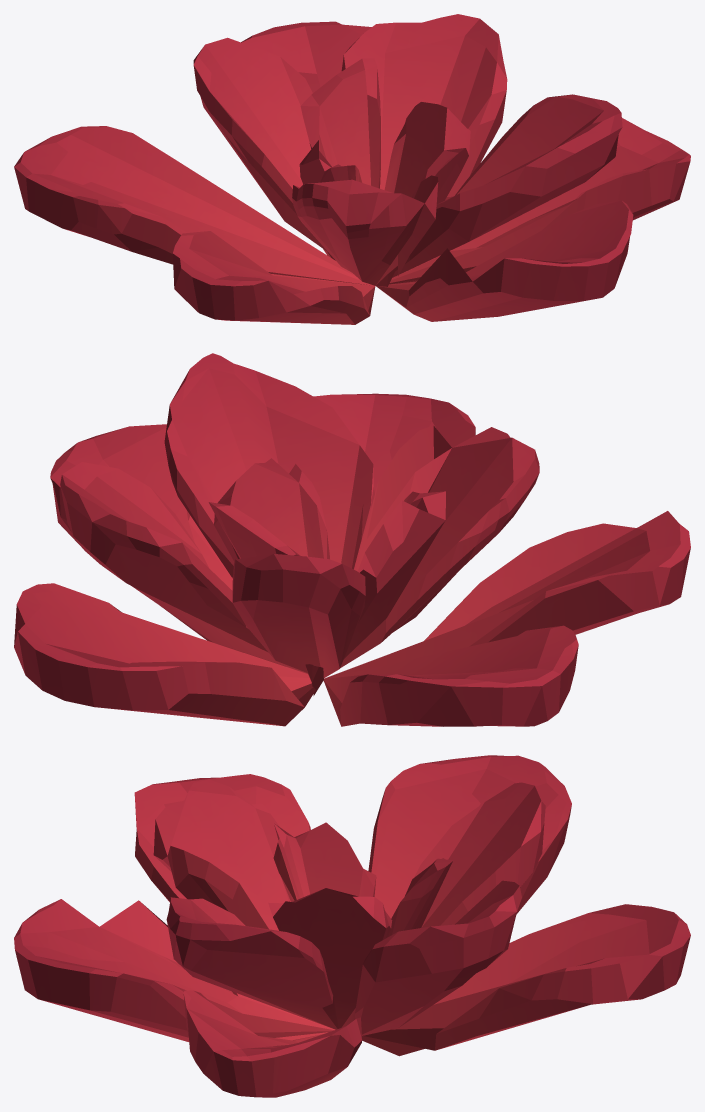
File: flor2.glb
The picture shows the model from 3 angles, top to bottom: view 1: azimuth 30°, elevation 25°; view 2: azimuth 150°, elevation 25°; view 3: azimuth 270°, elevation 25°; orthographic projection. The views are drawn at different scales.
Visible parts, largest first — view 1: Succulent.002; view 2: Succulent.002; view 3: Succulent.002.
Part boxes in pixels (x1=…): Succulent.002: x1=14, y1=14, x2=690, y2=324; Succulent.002: x1=14, y1=353, x2=690, y2=726; Succulent.002: x1=14, y1=755, x2=690, y2=1097.
Bounding box in the file's own units: 1.56 × 0.5883 × 1.58.
1 material, 1 textured.
